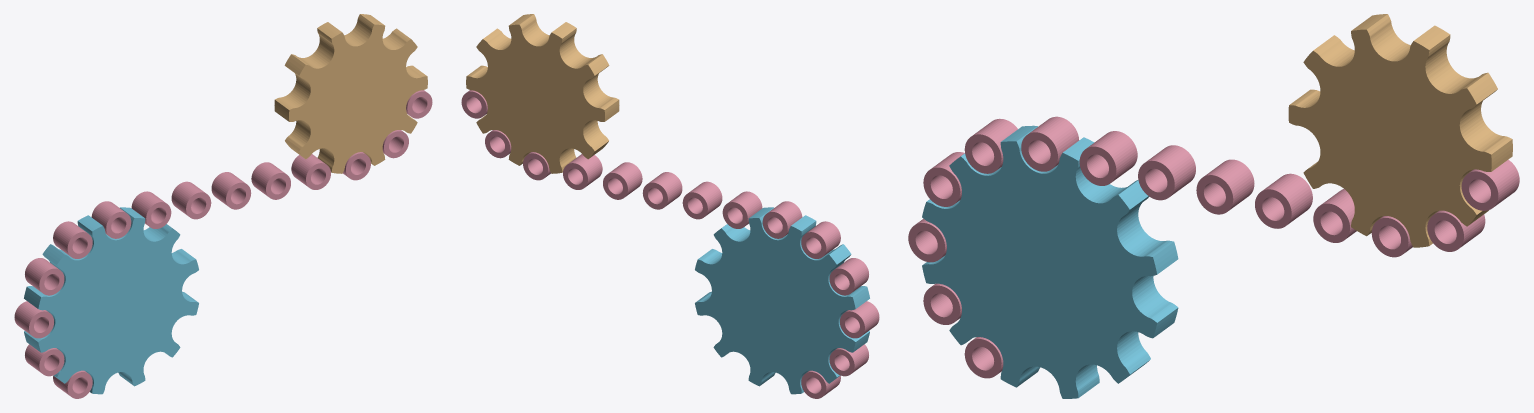
Rendered from chain_reverse_demo.glb.
The picture shows the model from 3 angles, left to right: view 1: azimuth 30°, elevation 25°; view 2: azimuth 150°, elevation 25°; view 3: azimuth 330°, elevation 25°; orthographic projection. The views are drawn at different scales.
Visible parts, largest first — view 1: sprocket, idler, roller_07, roller_08, roller_00, roller_09, roller_01, roller_10, roller_02, roller_06, roller_05, roller_03 (+4 smaller); view 2: sprocket, idler, roller_07, roller_08, roller_00, roller_09, roller_01, roller_10, roller_02, roller_06, roller_05, roller_03 (+4 smaller); view 3: sprocket, idler, roller_08, roller_07, roller_06, roller_09, roller_05, roller_13, roller_00, roller_10, roller_12, roller_01 (+4 smaller).
Boxes of the visible parts, x1,y1,x2,y2 form: sprocket: (24,207,198,394); idler: (274,14,427,173); roller_07: (171,181,211,219); roller_08: (211,172,251,209); roller_00: (53,221,92,258); roller_09: (251,162,290,199); roller_01: (25,258,64,295); roller_10: (291,154,330,189); roller_02: (14,301,53,338); roller_06: (131,191,171,228); roller_05: (91,201,131,238); roller_03: (25,344,64,376); sprocket: (695,207,869,394); idler: (466,14,619,173); roller_07: (682,181,722,219); roller_08: (642,172,682,209); roller_00: (801,221,840,258); roller_09: (603,162,642,199); roller_01: (829,258,868,295); roller_10: (563,154,602,189); roller_02: (840,301,879,338); roller_06: (722,191,762,228); roller_05: (762,201,802,238); roller_03: (829,344,868,376); sprocket: (922,125,1178,398); idler: (1288,14,1512,247); roller_08: (1196,159,1254,214); roller_07: (1138,145,1195,200); roller_06: (1079,131,1137,185); roller_09: (1255,173,1312,228); roller_05: (1021,116,1079,171); roller_13: (1461,159,1519,210); roller_00: (964,118,1017,173); roller_10: (1313,189,1356,242); roller_12: (1427,210,1485,251); roller_01: (923,152,964,206).
Size of the model in its own units: 96.21 by 69.1 by 6.
